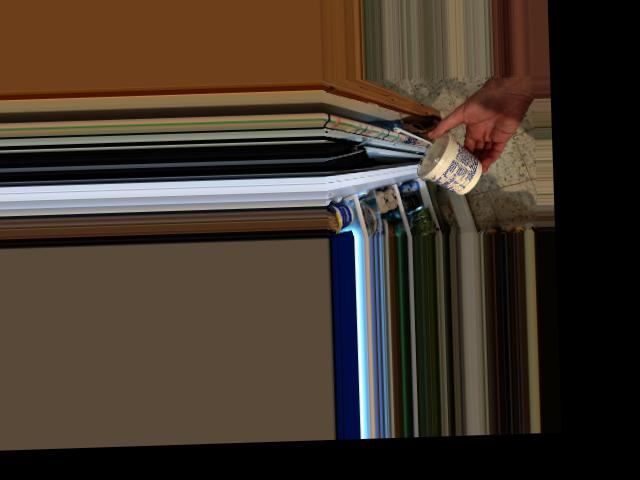cotage: (419, 125, 485, 189)
